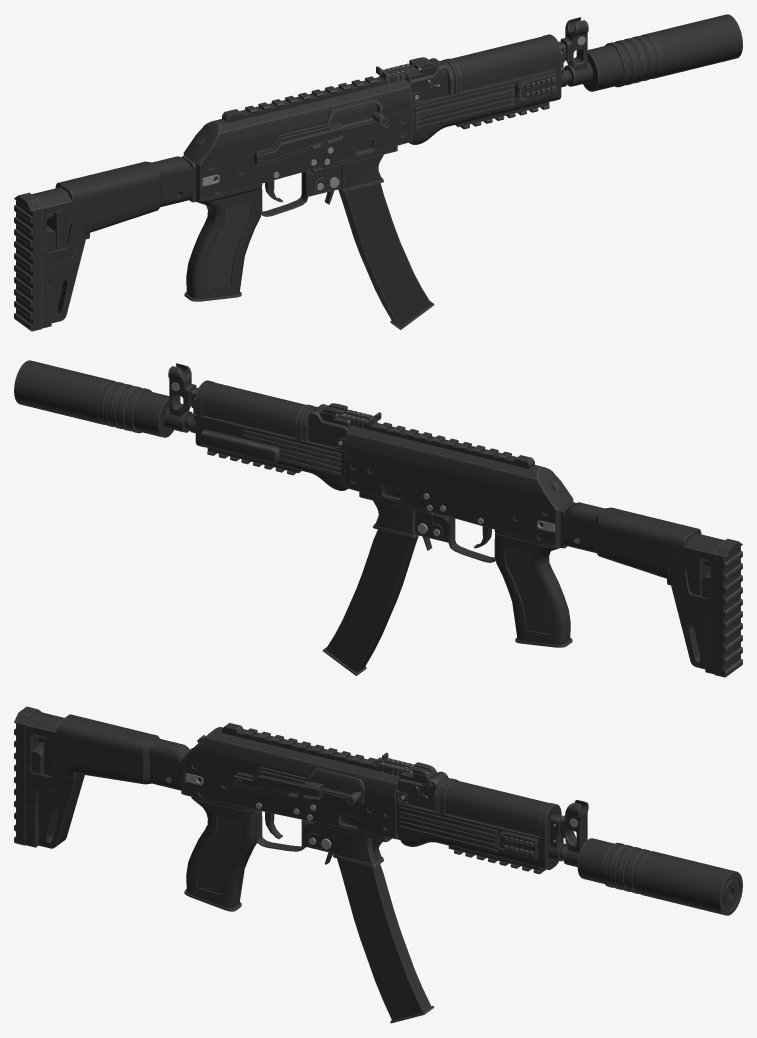
3 renders of one model, top to bottom at view 1: azimuth 30°, elevation 25°; view 2: azimuth 150°, elevation 25°; view 3: azimuth 330°, elevation 25°, orthographic.
Parts seen in each view (by area): view 1: KEDR; view 2: KEDR; view 3: KEDR.
Boxes of the visible parts, box(x1,y1,x2,y2) form: KEDR: box(14, 14, 742, 331); KEDR: box(14, 360, 742, 677); KEDR: box(14, 706, 742, 1023).
Bounding box in the file's own units: 4.64 × 1.64 × 0.318.
Materials: 1 (1 with a texture image).
